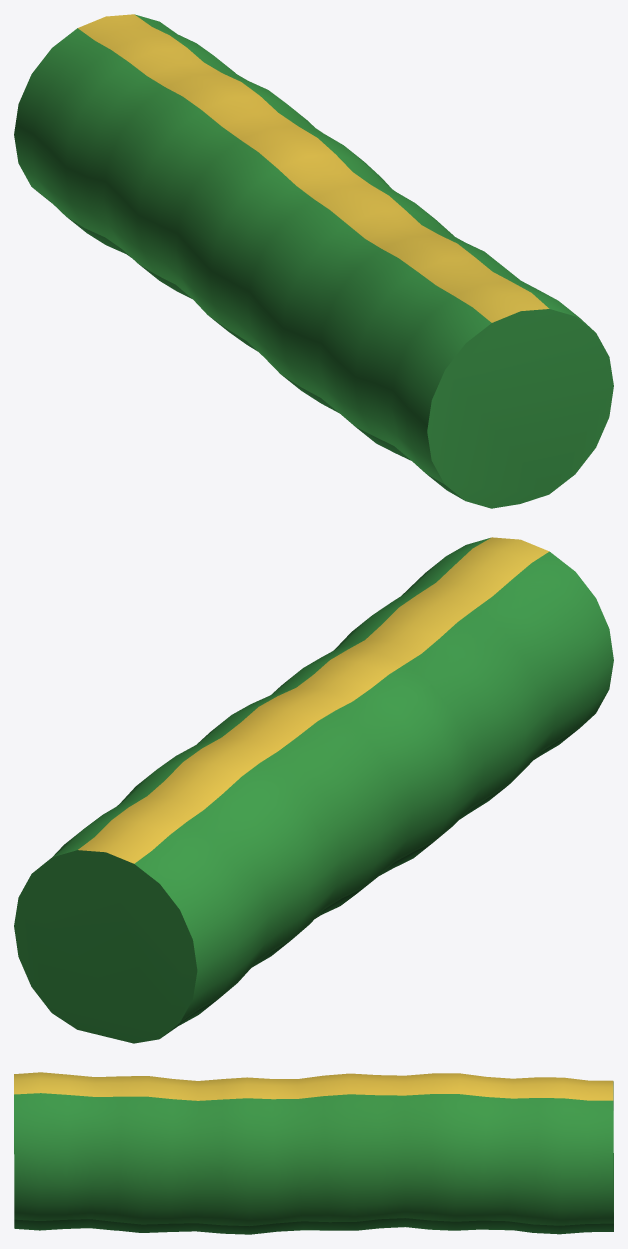
Rendered from canopy_hose.glb.
3 renders of one model, top to bottom at view 1: azimuth 30°, elevation 25°; view 2: azimuth 150°, elevation 25°; view 3: azimuth 270°, elevation 25°, orthographic. The views are drawn at different scales.
Visible parts, largest first — view 1: canopy_hose; view 2: canopy_hose; view 3: canopy_hose.
Part boxes in pixels (left/top/right/bottom): canopy_hose: left=14, top=14, right=613, bottom=508; canopy_hose: left=14, top=537, right=613, bottom=1043; canopy_hose: left=14, top=1072, right=613, bottom=1234.
Size of the model in its own units: 2.66 by 2.6 by 10.01.
